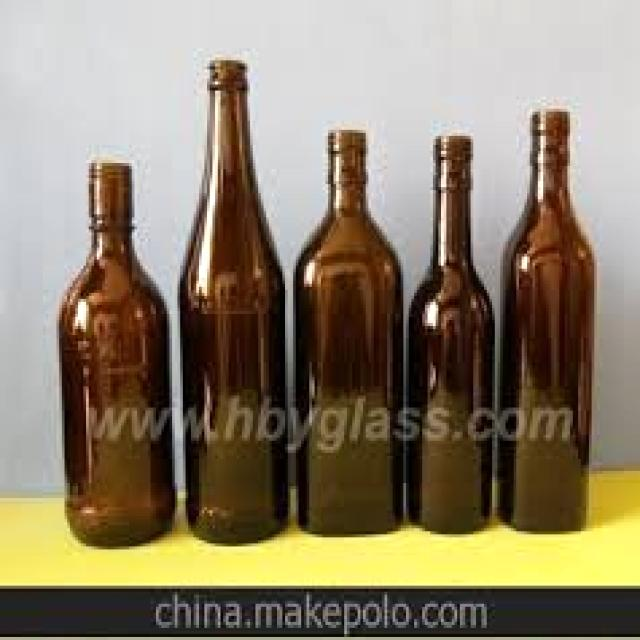Glass: (173, 56, 293, 548), (60, 156, 183, 555), (290, 125, 408, 540), (493, 102, 597, 536), (403, 130, 498, 537)
